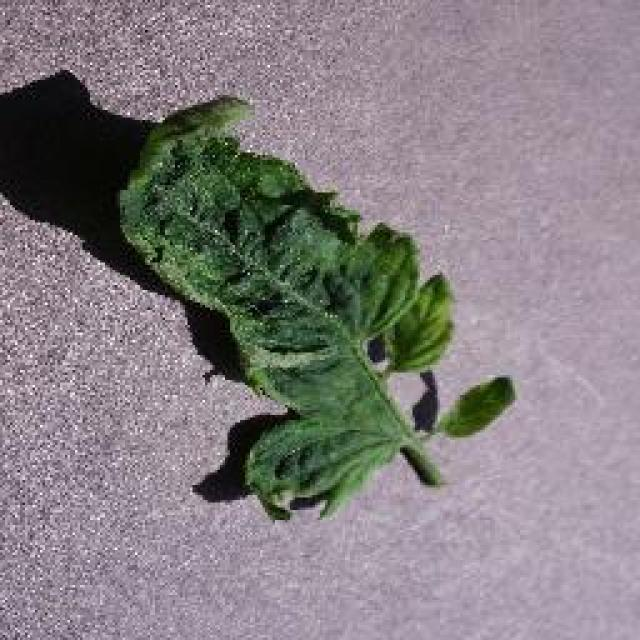Tomato___Tomato_mosaic_virus: (120, 98, 512, 518)
